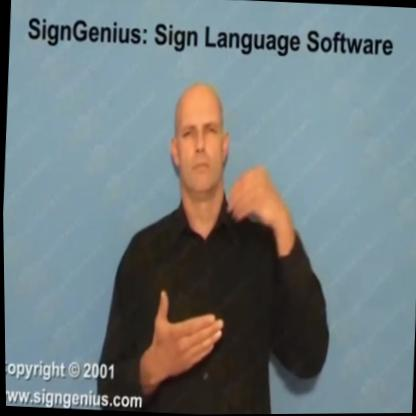Expensive: (135, 156, 294, 383)
